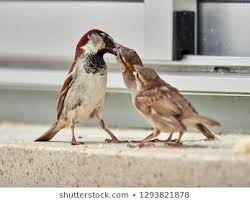hsparrow: (111, 38, 223, 150), (37, 28, 117, 159), (130, 62, 221, 144)
